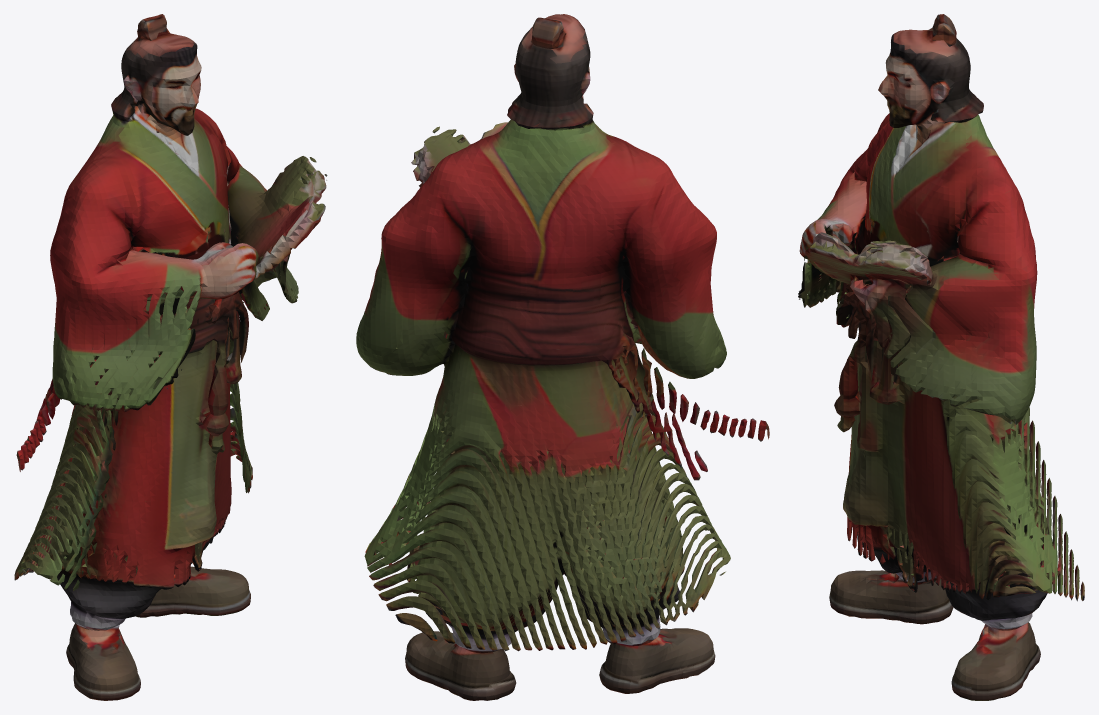
The model's file is body.glb.
3 renders of one model, left to right at view 1: azimuth 30°, elevation 25°; view 2: azimuth 150°, elevation 25°; view 3: azimuth 270°, elevation 25°, orthographic. The views are drawn at different scales.
Parts seen in each view (by area): view 1: geometry_0; view 2: geometry_0; view 3: geometry_0.
Part boxes in pixels (<box>): geometry_0: <box>14,14,327,700</box>; geometry_0: <box>356,14,769,700</box>; geometry_0: <box>798,14,1084,700</box>.
Bounding box in the file's own units: 1.08 × 1.96 × 0.8078.
1 material, 1 textured.
